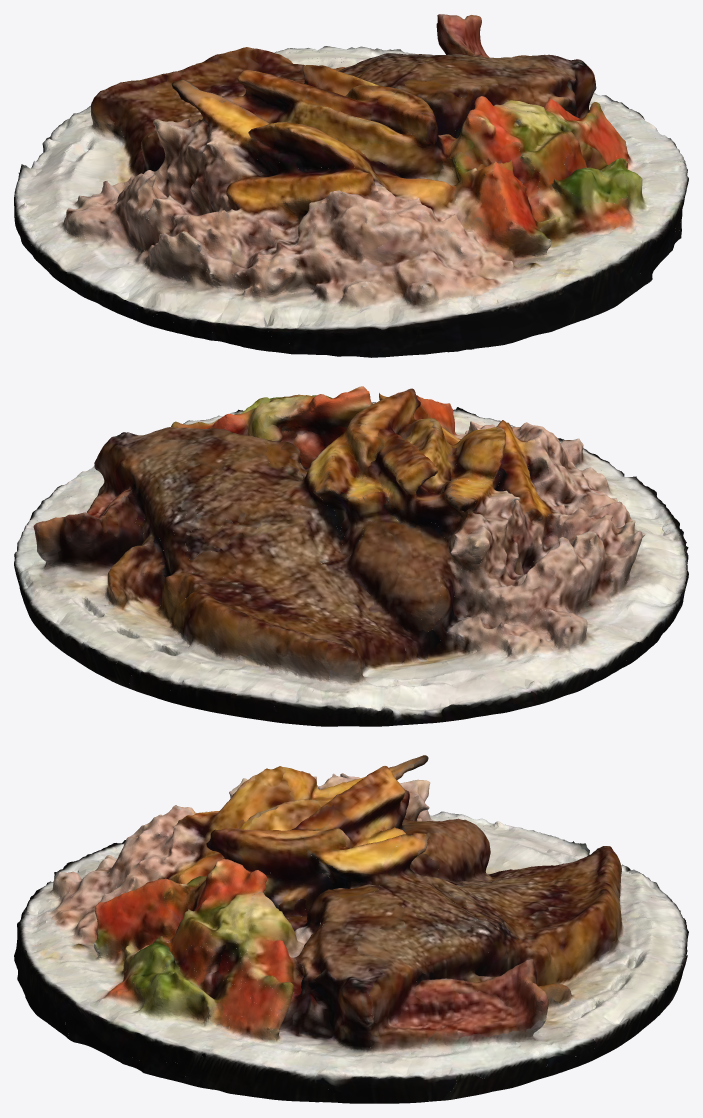
Rendered from bife-com-arroz-mobile.glb.
3 views of the same model, one above another, from view 1: azimuth 30°, elevation 25°; view 2: azimuth 150°, elevation 25°; view 3: azimuth 270°, elevation 25° (orthographic).
Parts seen in each view (by area): view 1: mesh_main_1, mesh_main_0, mesh_main_0_2; view 2: mesh_main_1, mesh_main_0, mesh_main_0_2; view 3: mesh_main_1, mesh_main_0, mesh_main_0_2.
Part boxes in pixels (bbox=[...]): mesh_main_1: bbox=[15, 47, 687, 357]; mesh_main_0: bbox=[14, 14, 688, 348]; mesh_main_0_2: bbox=[49, 114, 641, 293]; mesh_main_1: bbox=[14, 386, 687, 719]; mesh_main_0: bbox=[17, 386, 688, 726]; mesh_main_0_2: bbox=[201, 396, 645, 672]; mesh_main_1: bbox=[14, 766, 688, 1103]; mesh_main_0: bbox=[19, 755, 687, 1101]; mesh_main_0_2: bbox=[186, 778, 519, 1040].
Bounding box in the file's own units: 0.2576 × 0.0655 × 0.2596.
1 material, 1 textured.
